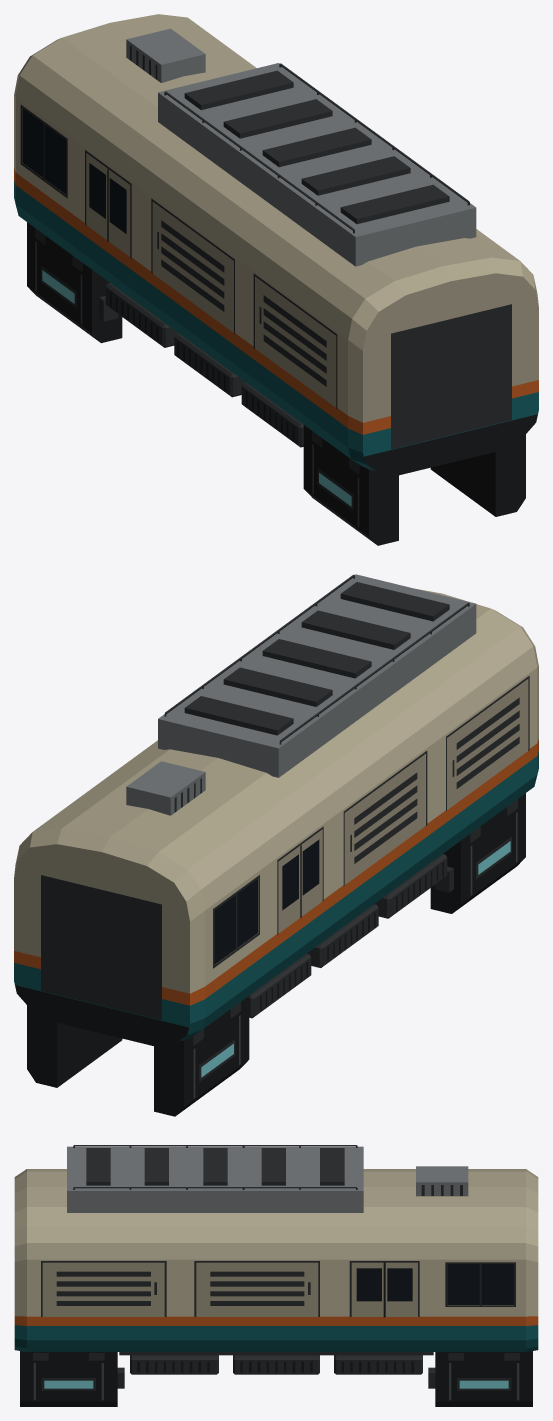
File: service-car.glb
The picture shows the model from 3 angles, top to bottom: view 1: azimuth 30°, elevation 25°; view 2: azimuth 150°, elevation 25°; view 3: azimuth 270°, elevation 25°; orthographic projection. The views are drawn at different scales.
Parts seen in each view (by area): view 1: service-car (×2); view 2: service-car (×2); view 3: service-car (×2).
Boxes of the visible parts, x1,y1,x2,y2 form: service-car (×2): (14,14,538,545); service-car (×2): (14,574,538,1116); service-car (×2): (14,1145,538,1406).
Size of the model in its own units: 9.58 by 13.69 by 30.08.
